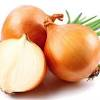Onion: (40, 19, 100, 83)
